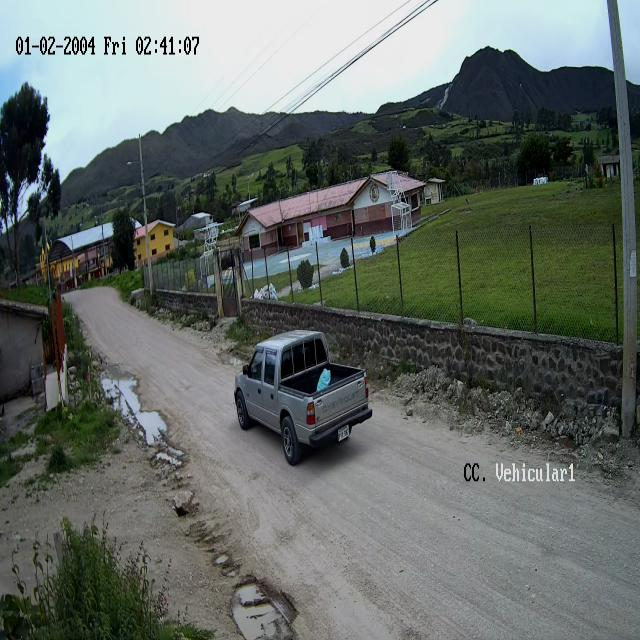CMT: (235, 330, 372, 465)
